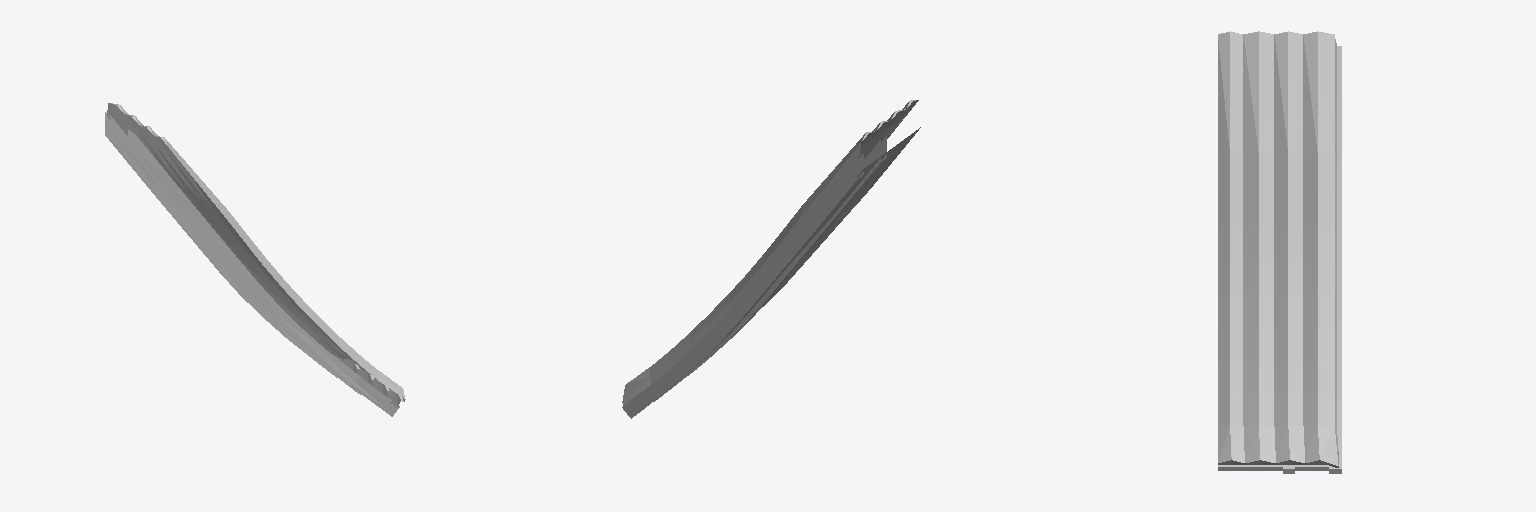
File: Roof_Modular_RoundTiles_8_R_Half.obj
3 renders of one model, left to right at view 1: azimuth 30°, elevation 25°; view 2: azimuth 150°, elevation 25°; view 3: azimuth 270°, elevation 25°, orthographic.
Visible parts, largest first — view 1: Roof_Modular_RoundTiles_8_R_Half; view 2: Roof_Modular_RoundTiles_8_R_Half; view 3: Roof_Modular_RoundTiles_8_R_Half.
Part boxes in pixels (x1,y1,x2,y2): Roof_Modular_RoundTiles_8_R_Half: (105,103,405,416); Roof_Modular_RoundTiles_8_R_Half: (622,100,920,418); Roof_Modular_RoundTiles_8_R_Half: (1218,31,1341,473).
Size of the model in its own units: 5.12 by 6.6 by 2.25.